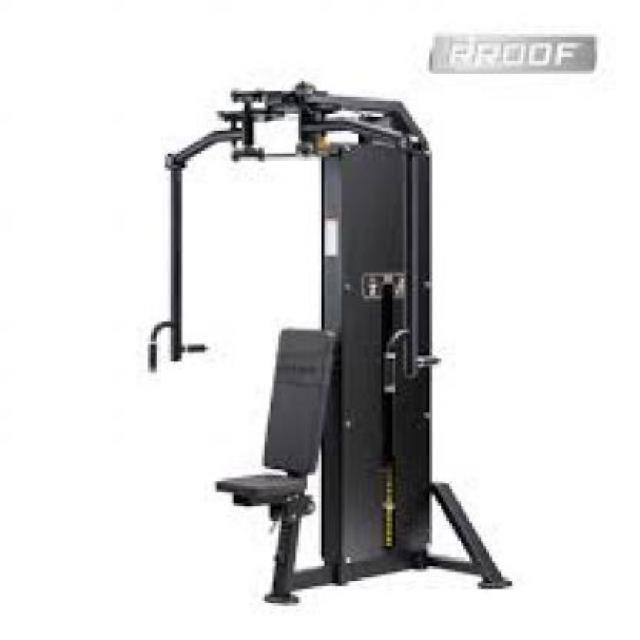chest fly machine: (131, 71, 515, 609)
